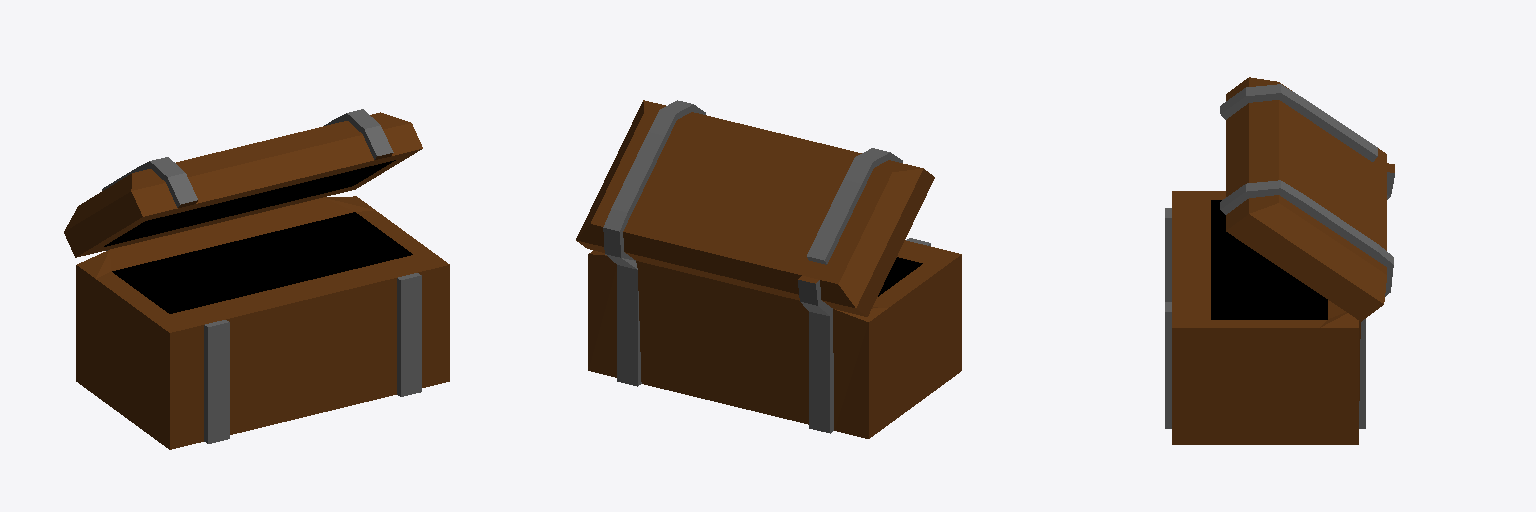
3 views of the same model, side by side, from view 1: azimuth 30°, elevation 25°; view 2: azimuth 150°, elevation 25°; view 3: azimuth 270°, elevation 25° (orthographic).
Parts seen in each view (by area): view 1: polySurface2; view 2: polySurface2; view 3: polySurface2.
Boxes of the visible parts, <box> form: polySurface2: <box>64,109,449,449</box>; polySurface2: <box>576,100,961,438</box>; polySurface2: <box>1165,77,1394,444</box>.
Bounding box in the file's own units: 2.24 × 1.84 × 1.6.
1 materials, 1 textured.